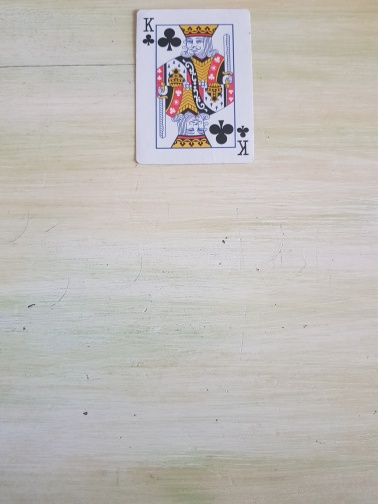king: (134, 8, 255, 166)
